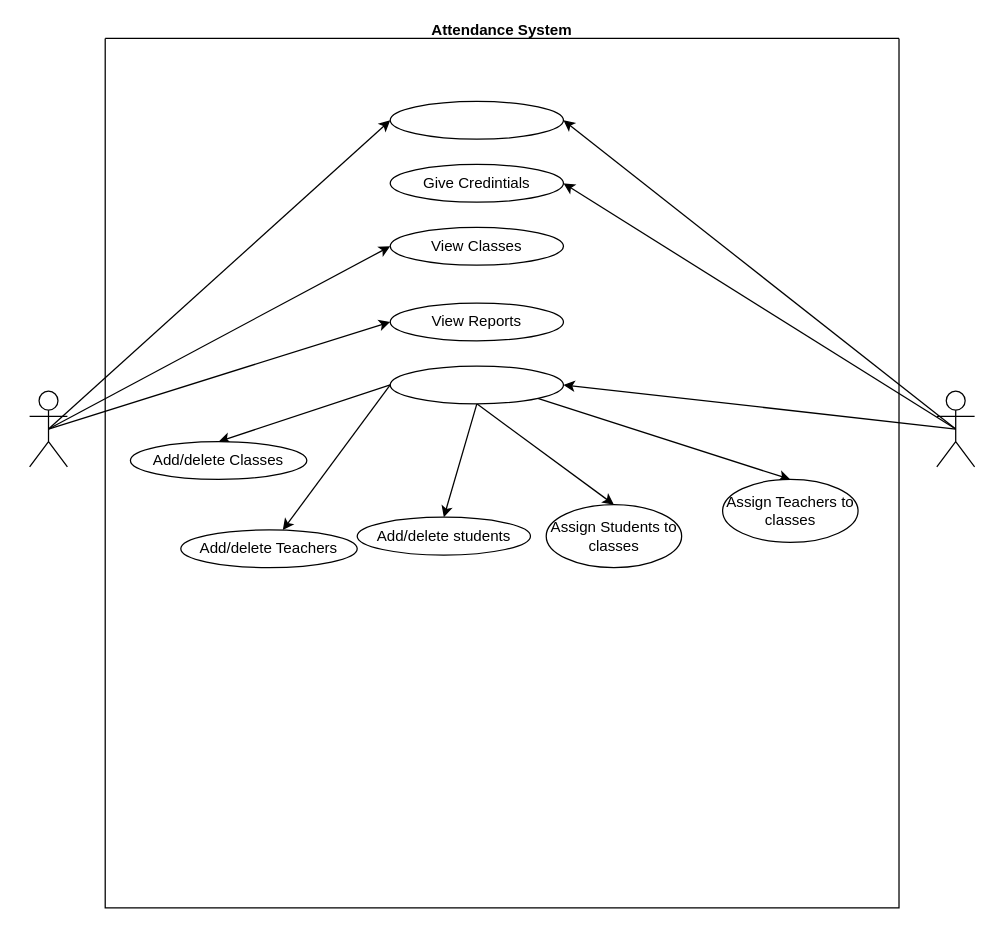
The diagram is 999 pixels wide and 930 high, and some of its shapes have lost their labels. Each missing label, with the centre of its shape:
Admin: the point at 955,428
Edit Database: the point at 476,384
Login: the point at 476,119
Teacher: the point at 47,428
